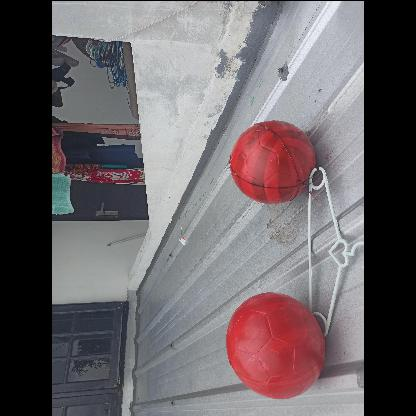red_ball: (223, 294, 327, 398), (228, 121, 312, 206)
